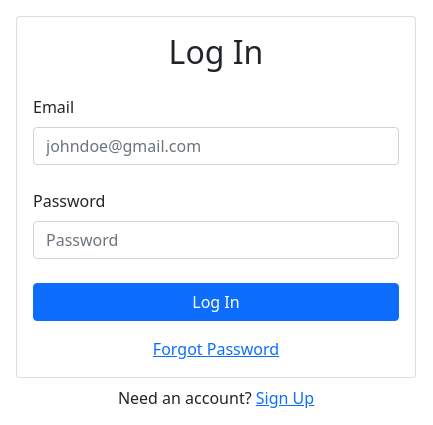
Test: Forgot Password Page › Forgot password page loads
Click the link to "/forgot-password" at (216, 349), box top-left (153, 338), bottom-right (279, 360)
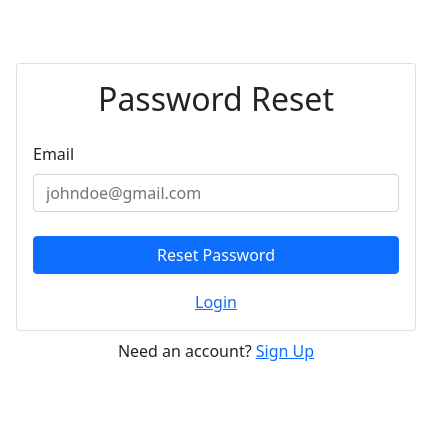
Expected: the heading "Password Reset" is shown, top-left (98, 77), bottom-right (334, 120)
